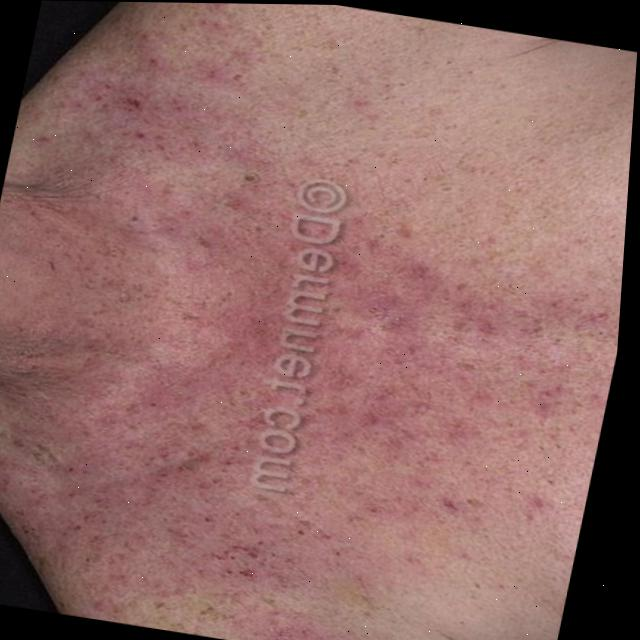Eczema: (0, 94, 604, 640)
